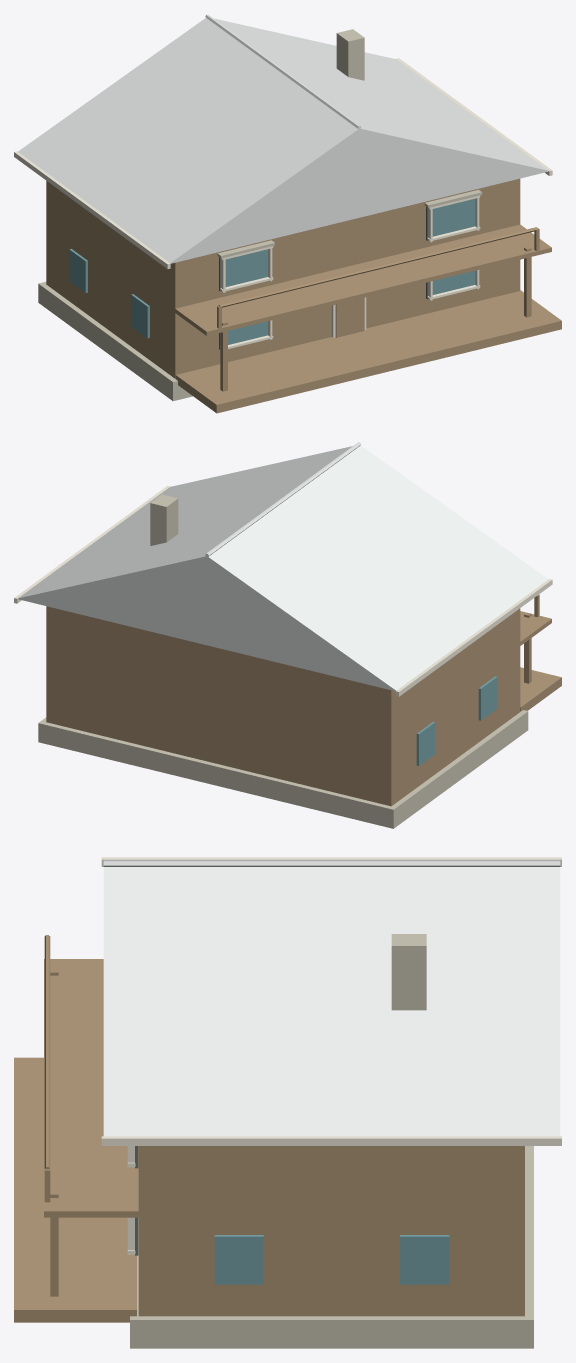
3 renders of one model, top to bottom at view 1: azimuth 30°, elevation 25°; view 2: azimuth 150°, elevation 25°; view 3: azimuth 270°, elevation 25°, orthographic. The views are drawn at different scales.
Bounding box in the file's own units: 18.96 × 11.21 × 15.6.
